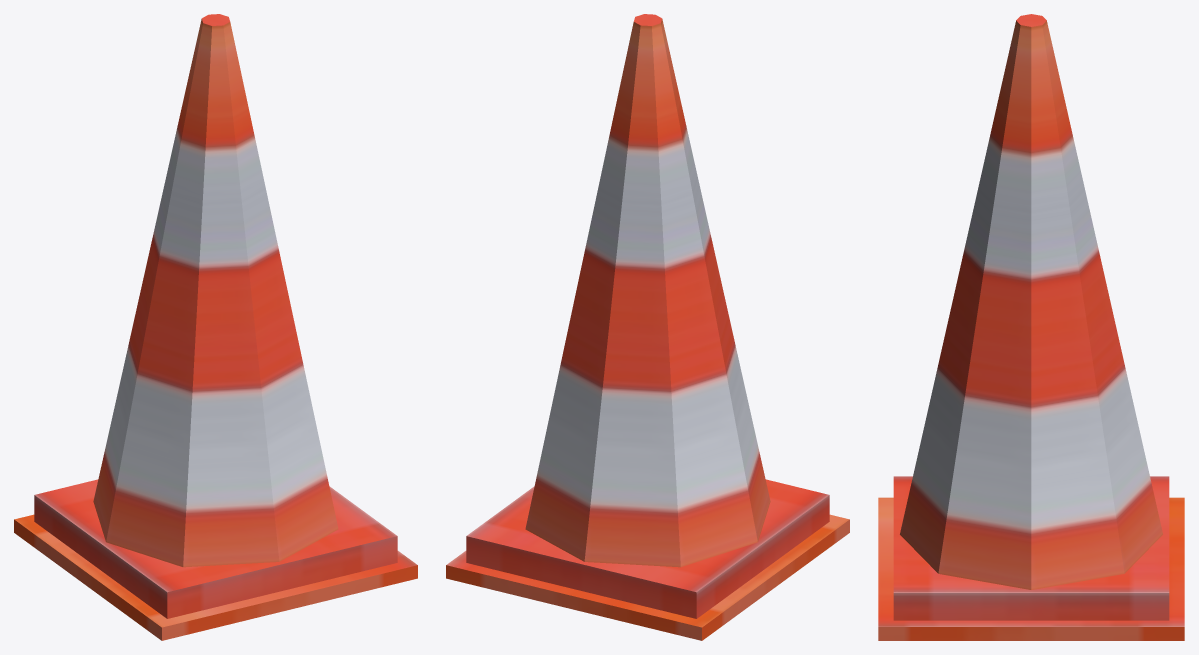
The model's file is TrafficCone01.obj.
The picture shows the model from 3 angles, left to right: view 1: azimuth 30°, elevation 25°; view 2: azimuth 150°, elevation 25°; view 3: azimuth 270°, elevation 25°; orthographic projection. The views are drawn at different scales.
Parts seen in each view (by area): view 1: TrafficCone01; view 2: TrafficCone01; view 3: TrafficCone01.
Part boxes in pixels (bbox=[...]): TrafficCone01: bbox=[14, 14, 417, 640]; TrafficCone01: bbox=[446, 14, 849, 640]; TrafficCone01: bbox=[878, 14, 1184, 640].
Bounding box in the file's own units: 0.4062 × 0.8125 × 0.4062.
